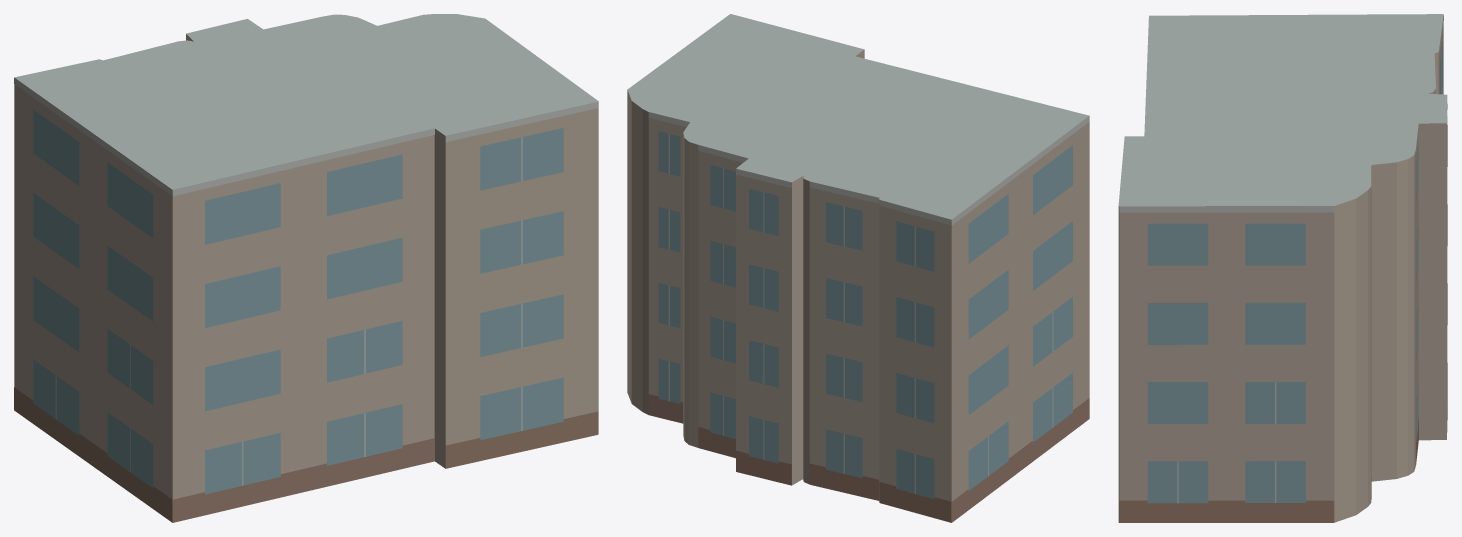
Rendered from survey-upis-32815141.glb.
The picture shows the model from 3 angles, left to right: view 1: azimuth 30°, elevation 25°; view 2: azimuth 150°, elevation 25°; view 3: azimuth 270°, elevation 25°; orthographic projection. The views are drawn at different scales.
Parts seen in each view (by area): view 1: survey-upis-32815141.tmp; view 2: survey-upis-32815141.tmp; view 3: survey-upis-32815141.tmp.
Boxes of the visible parts, bbox=[...] form: survey-upis-32815141.tmp: bbox=[14, 14, 598, 522]; survey-upis-32815141.tmp: bbox=[627, 14, 1089, 522]; survey-upis-32815141.tmp: bbox=[1118, 14, 1447, 522].
Size of the model in its own units: 16.41 by 12.6 by 11.87.
